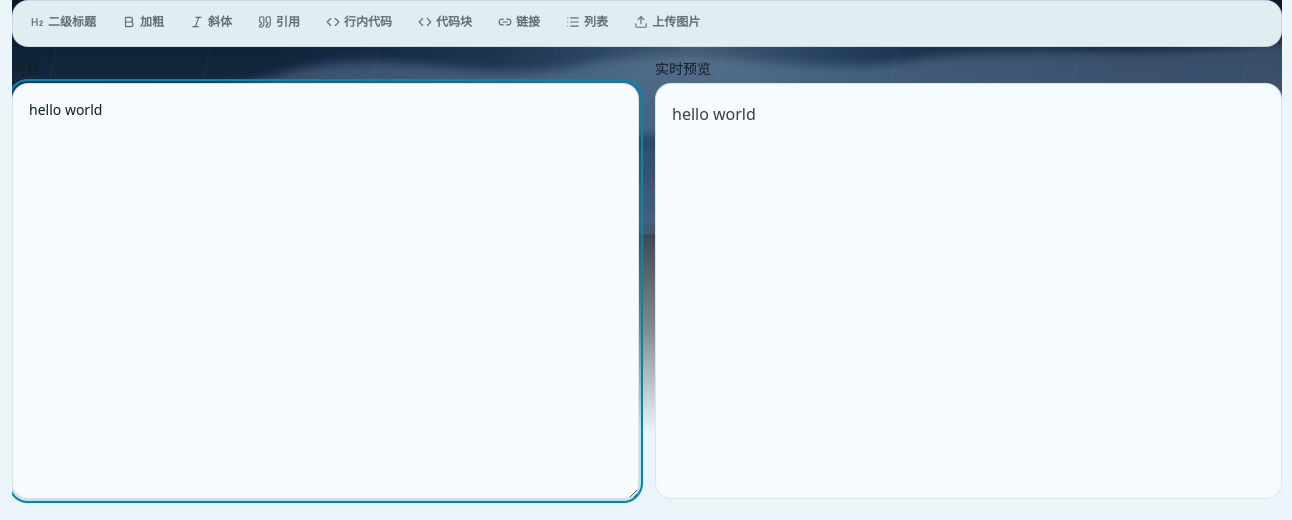
Test case: markdown editor › inserts paired markers at the cursor and places the caret between them
Click the button "加粗": coordinates (143, 24) [113, 9, 173, 38]
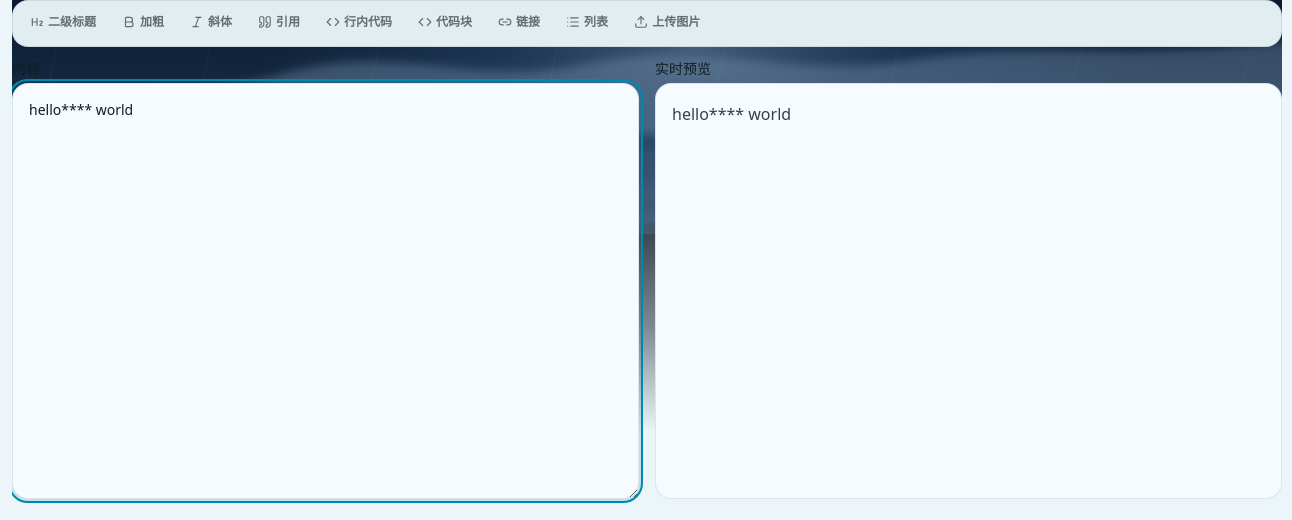
Check: the text box holds "hello**** world", box [12, 83, 639, 499]
